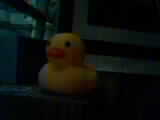duck: (38, 26, 115, 102)
